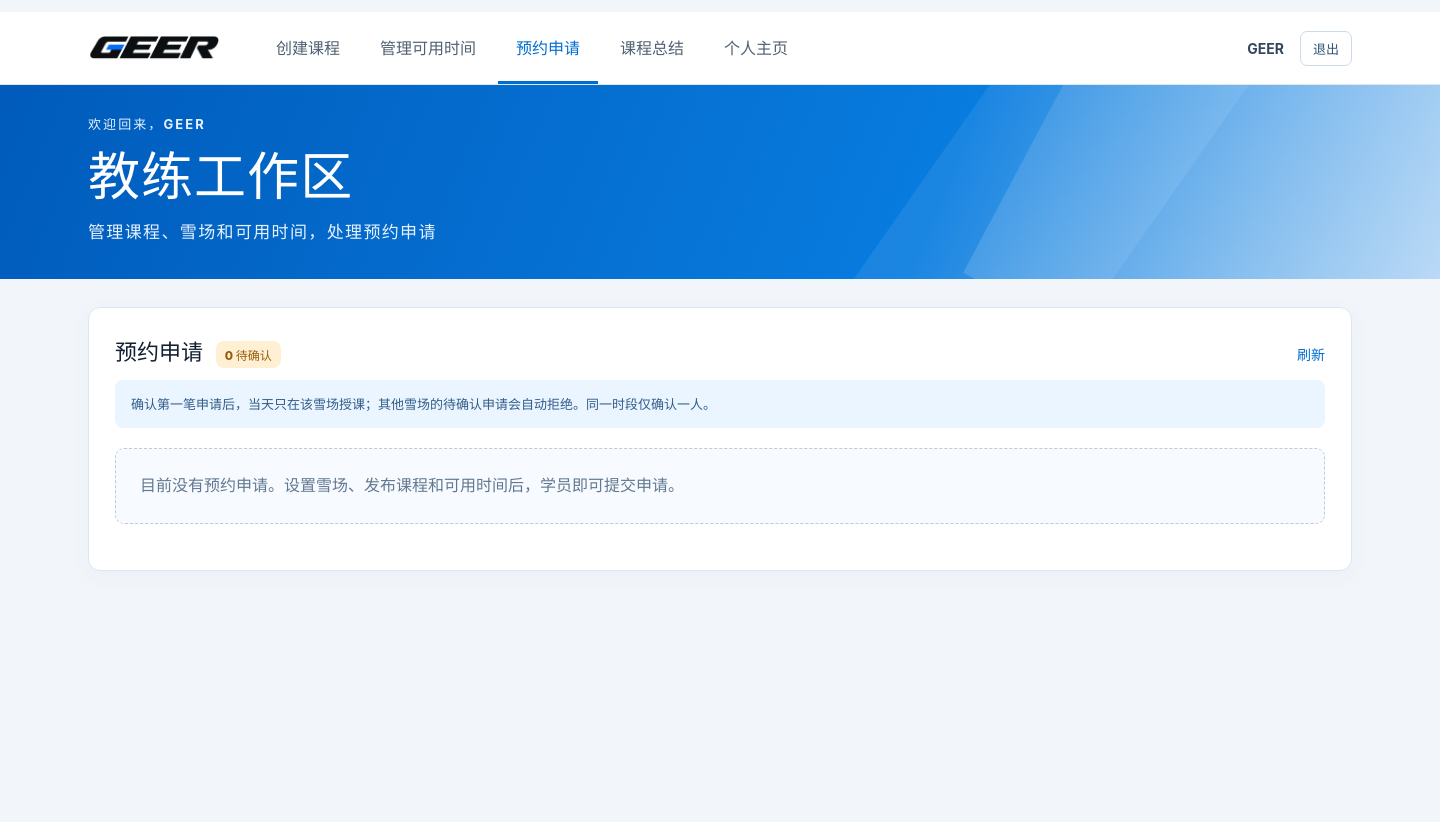
Test: hides archived courses after initial loading and loading more, preserving published course order
The width and height of the screenshot is (1440, 822).
Step 1. Click the button "创建课程" → (308, 48), box left=258, top=12, right=358, bottom=84
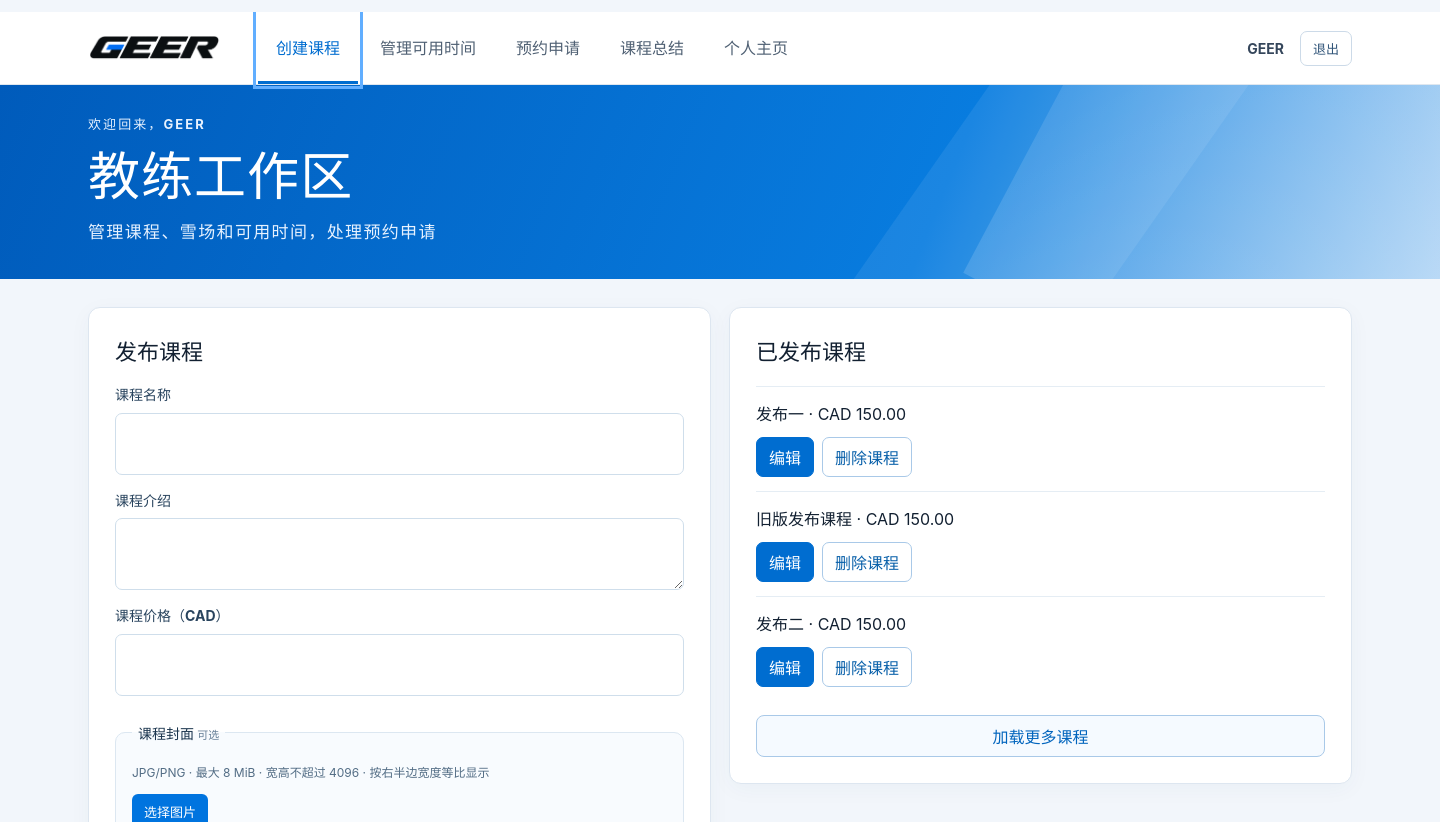
Expected: the text "旧版发布课程" is shown, left=756, top=509, right=852, bottom=529
Step 2. Click the button "加载更多课程" → (1040, 736), box left=756, top=715, right=1325, bottom=757
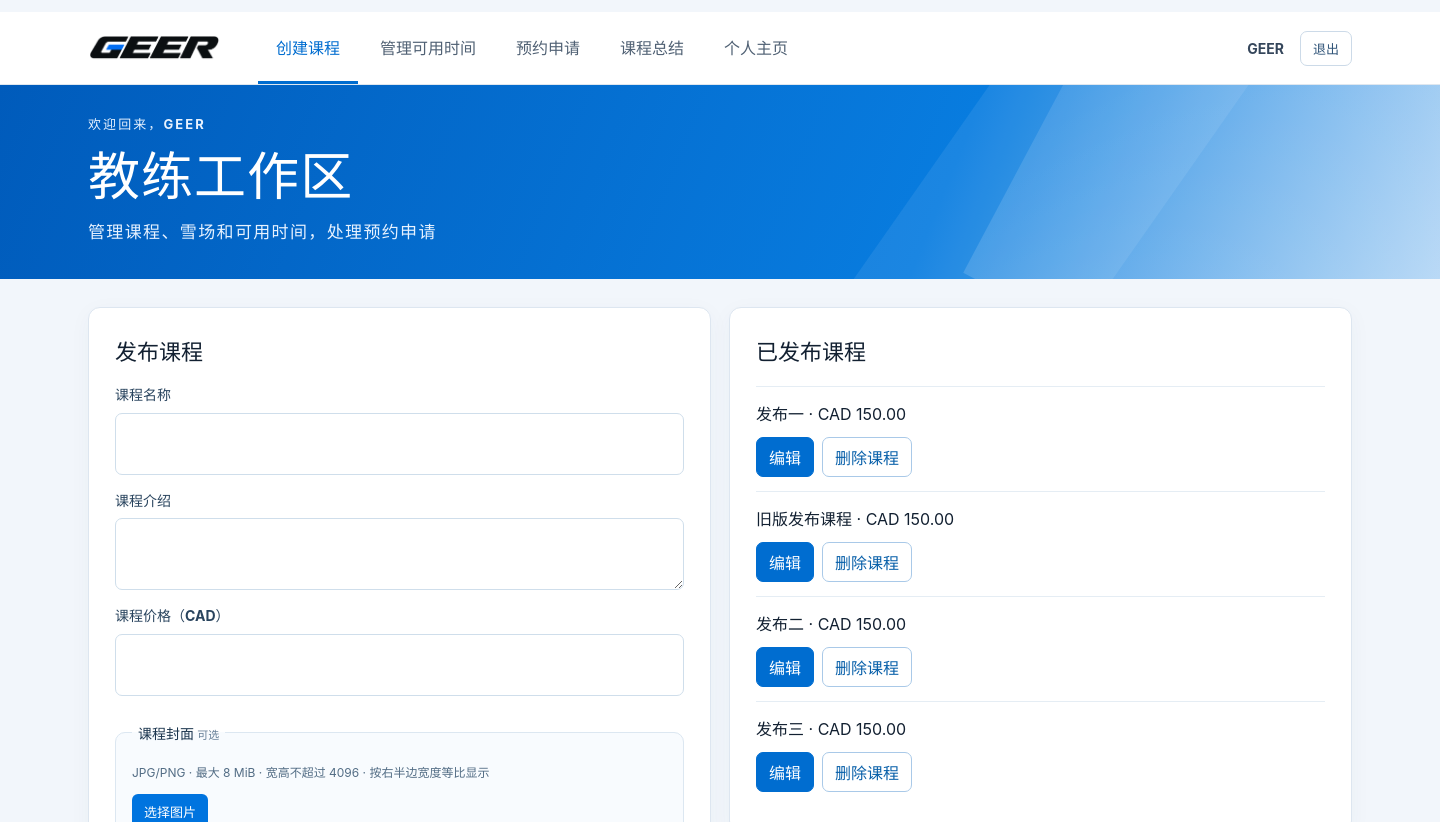
Expected: the text "发布三" is shown, left=756, top=719, right=804, bottom=739
